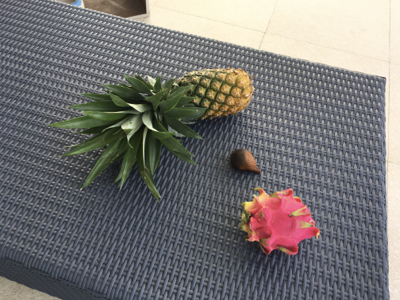dragon fruit: (241, 189, 321, 256)
pineapple: (52, 69, 255, 199)
snake fruit: (228, 147, 262, 176)
